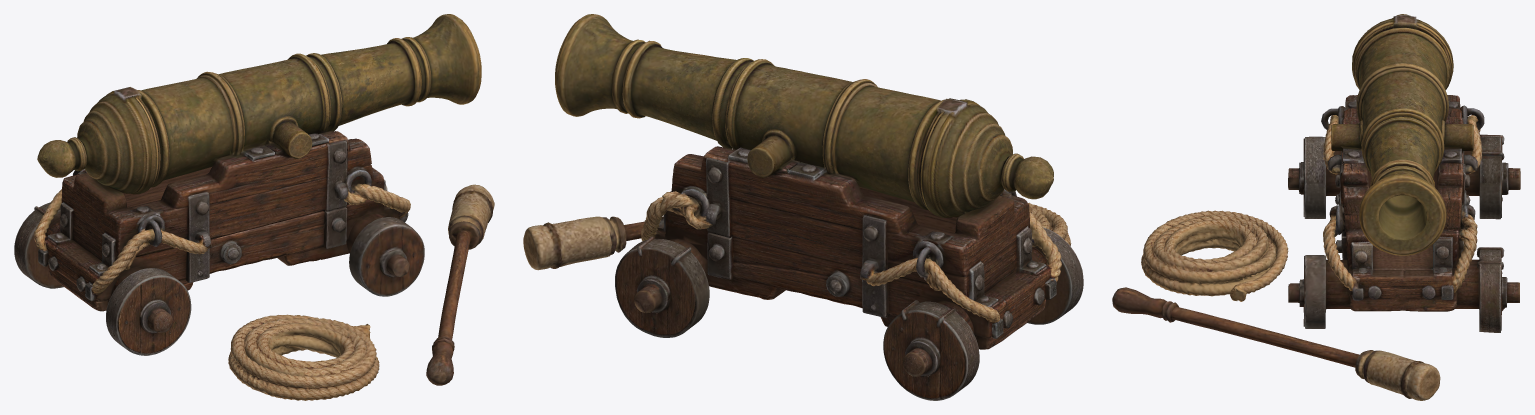
File: Donanma topu.glb
The picture shows the model from 3 angles, left to right: view 1: azimuth 30°, elevation 25°; view 2: azimuth 150°, elevation 25°; view 3: azimuth 270°, elevation 25°; orthographic projection. The views are drawn at different scales.
Parts seen in each view (by area): view 1: tripo_node_91c5f318-0802-4637-bec6-8887eb2a1434; view 2: tripo_node_91c5f318-0802-4637-bec6-8887eb2a1434; view 3: tripo_node_91c5f318-0802-4637-bec6-8887eb2a1434.
Boxes of the visible parts, bbox=[...] form: tripo_node_91c5f318-0802-4637-bec6-8887eb2a1434: bbox=[14, 14, 494, 400]; tripo_node_91c5f318-0802-4637-bec6-8887eb2a1434: bbox=[523, 14, 1083, 400]; tripo_node_91c5f318-0802-4637-bec6-8887eb2a1434: bbox=[1112, 14, 1520, 400].
Size of the model in its own units: 0.9785 by 0.4598 by 0.7866.
Materials: 1 (1 with a texture image).
